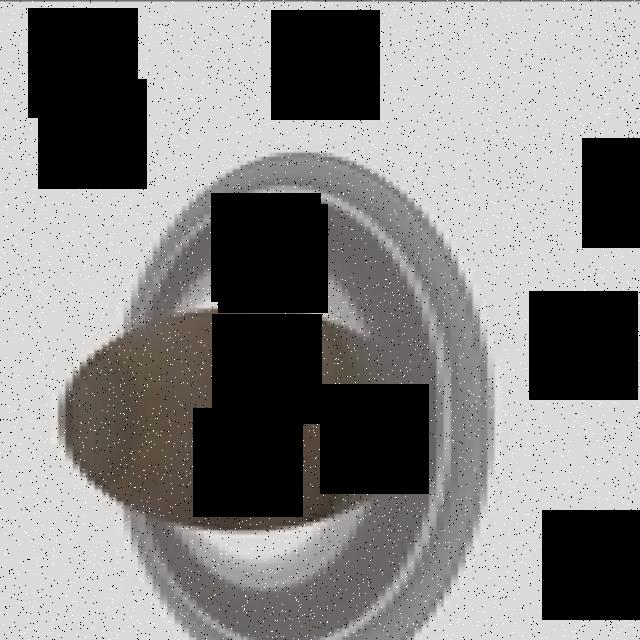Saturn: (59, 147, 502, 640)
